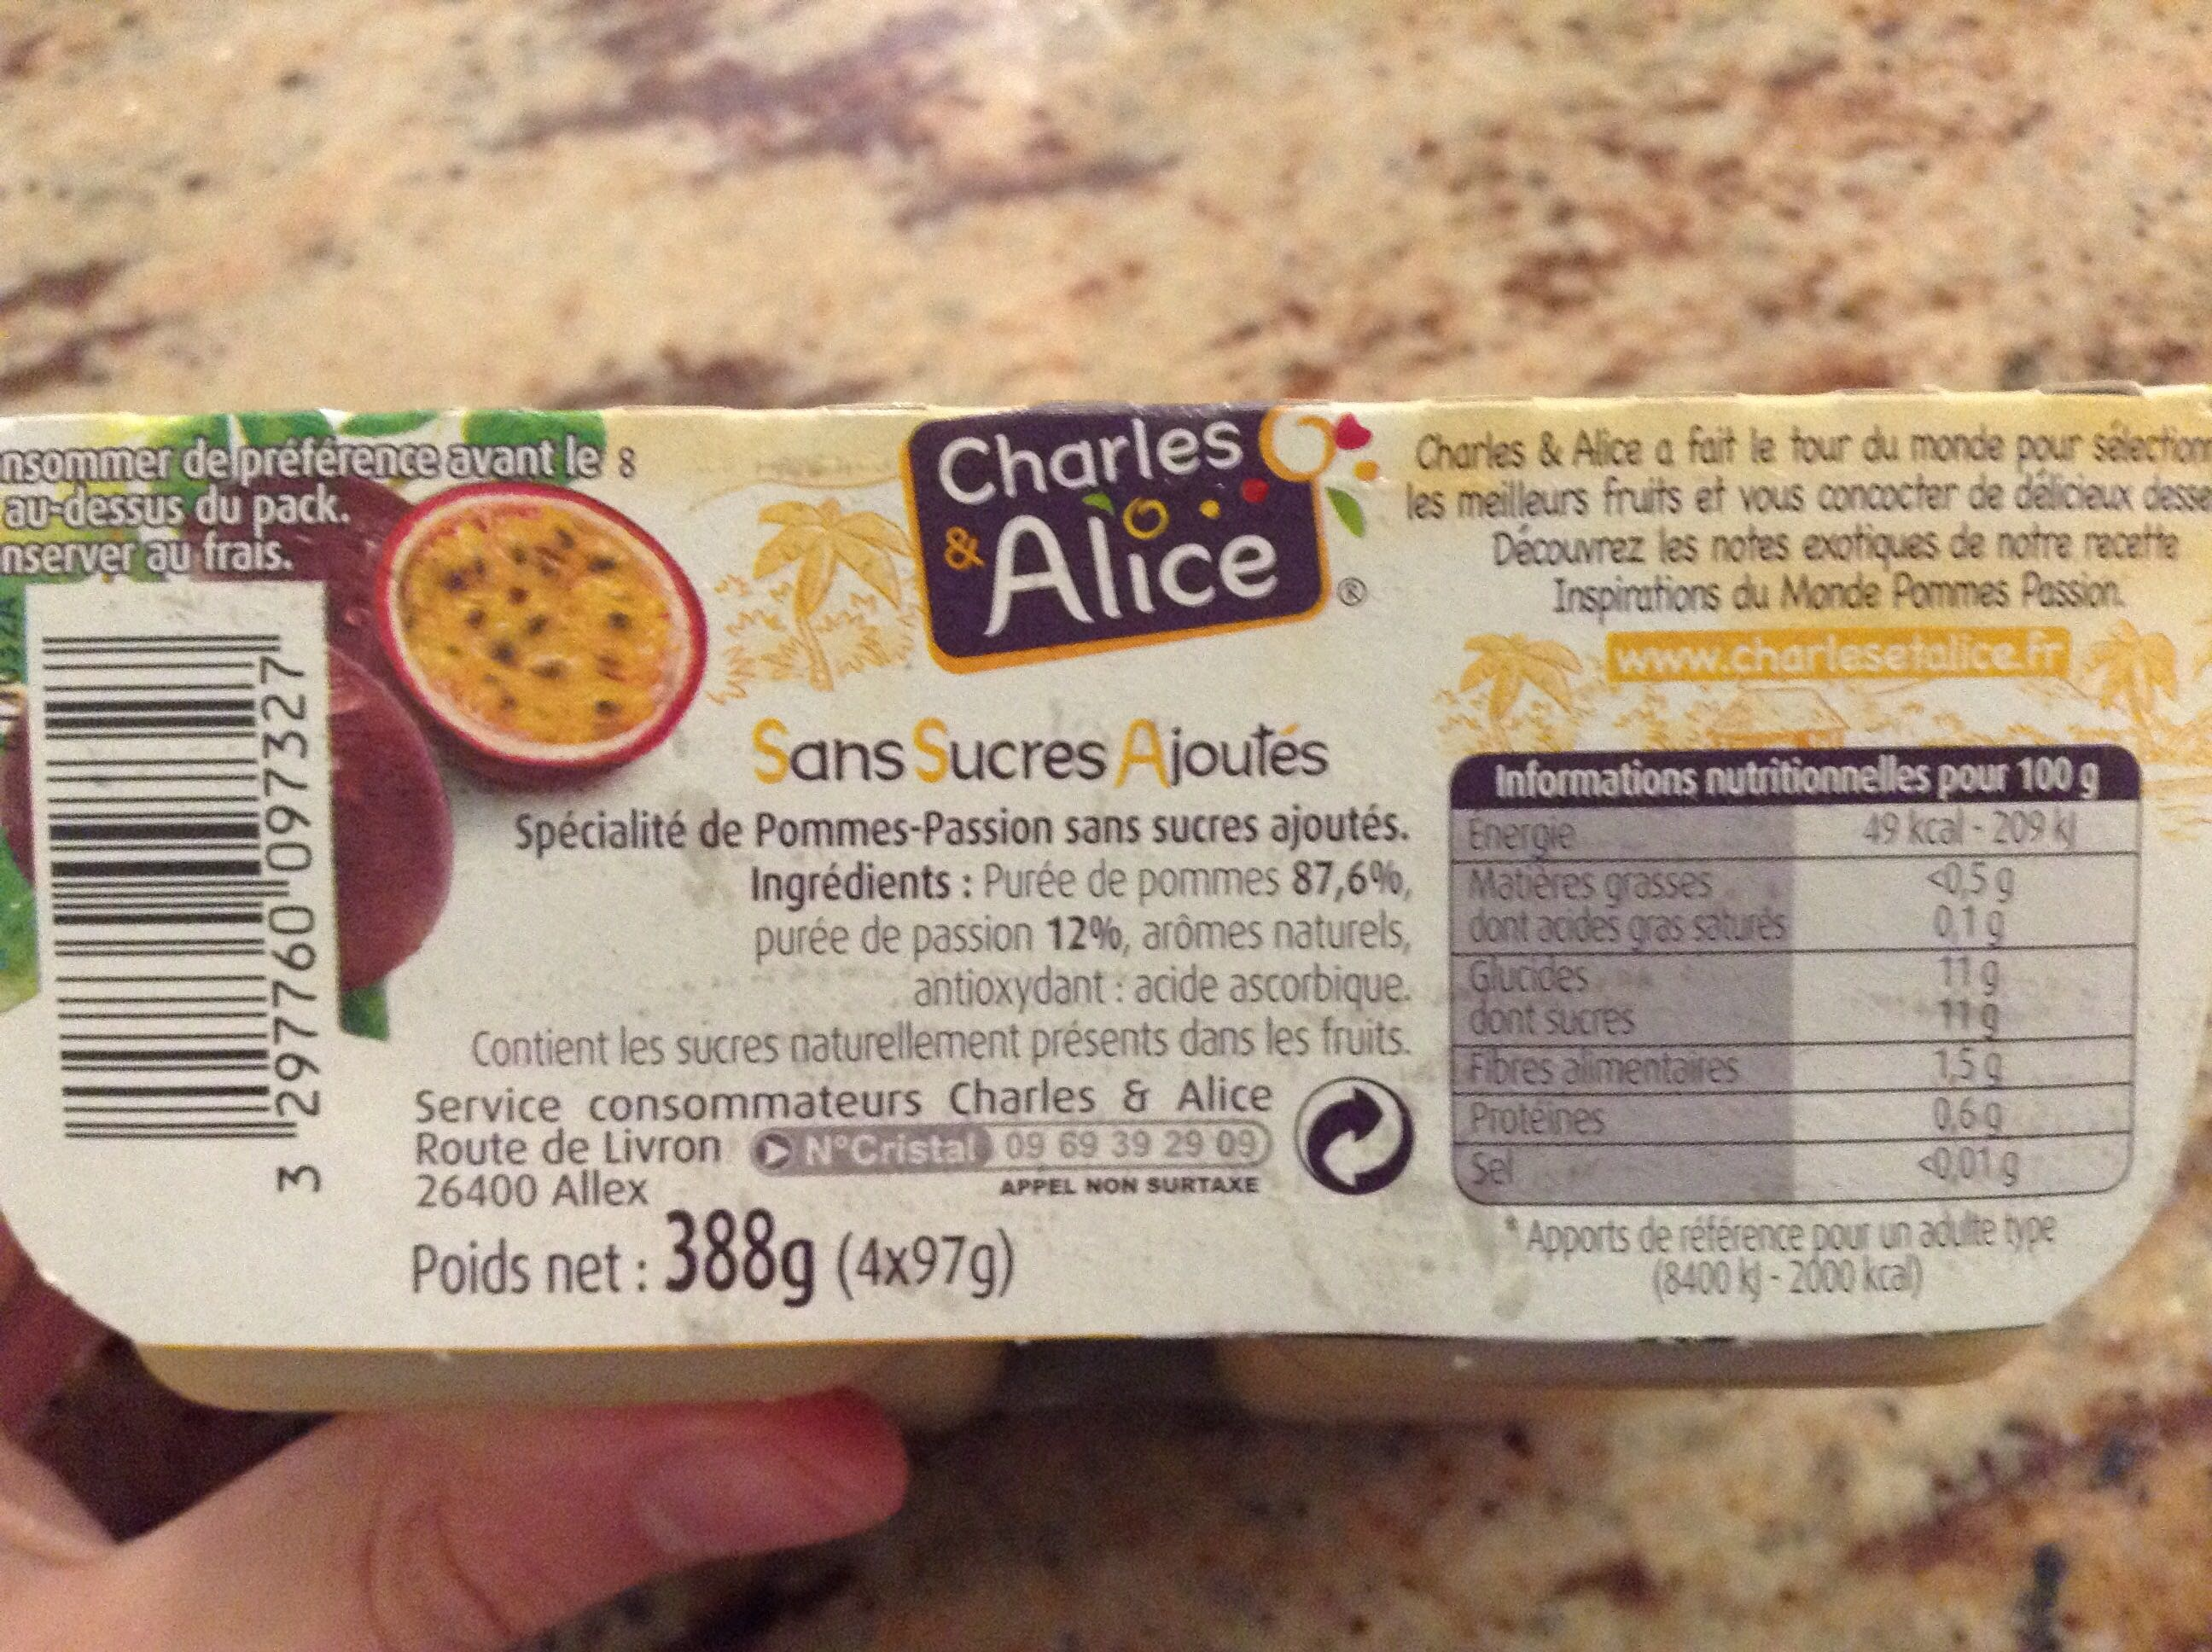column: (1464, 814, 1785, 1192), (1860, 805, 2080, 1189)
table: (1445, 746, 2136, 1201)
